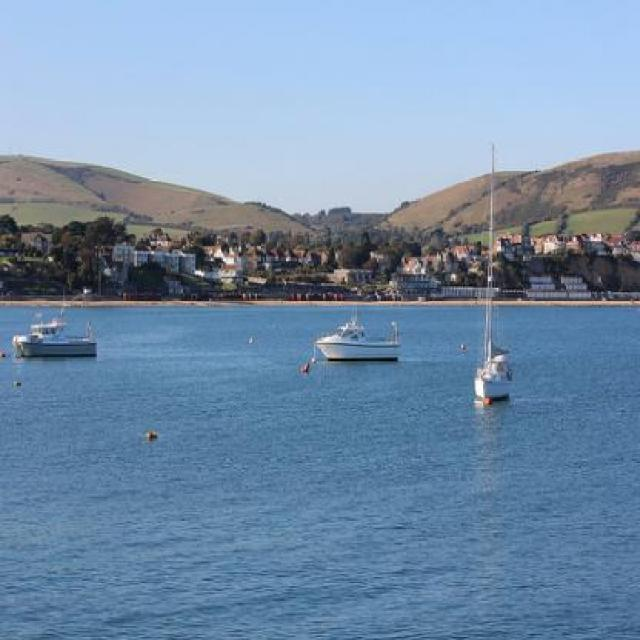ship: (470, 138, 518, 405), (314, 292, 403, 360), (10, 304, 101, 362)
